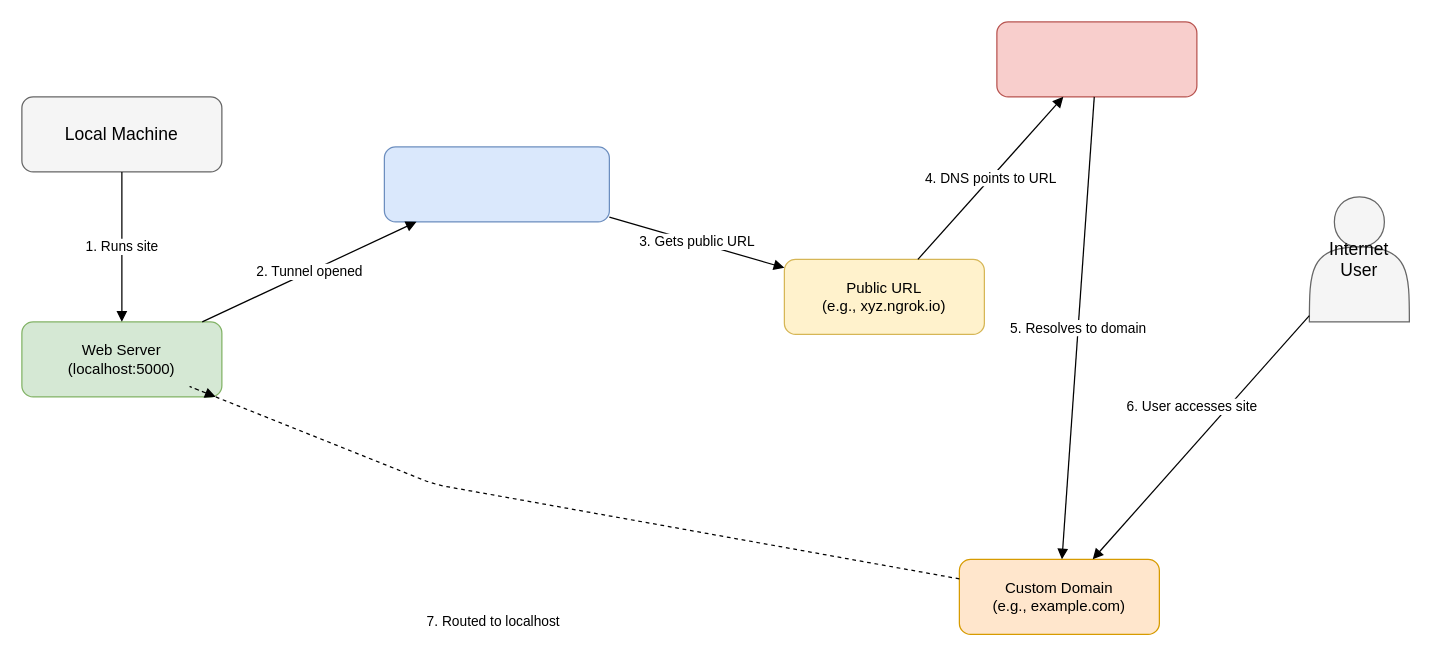
Image size: 1431x656. Some labels were removed from this diagram. Here are the shapes that lost their labels. From the top down, the centre of each, then its label:
the point at 1096,59: DNS Provider (e.g., Namecheap)
the point at 496,184: Tunneling Service (e.g., Ngrok, Cloudflare)
